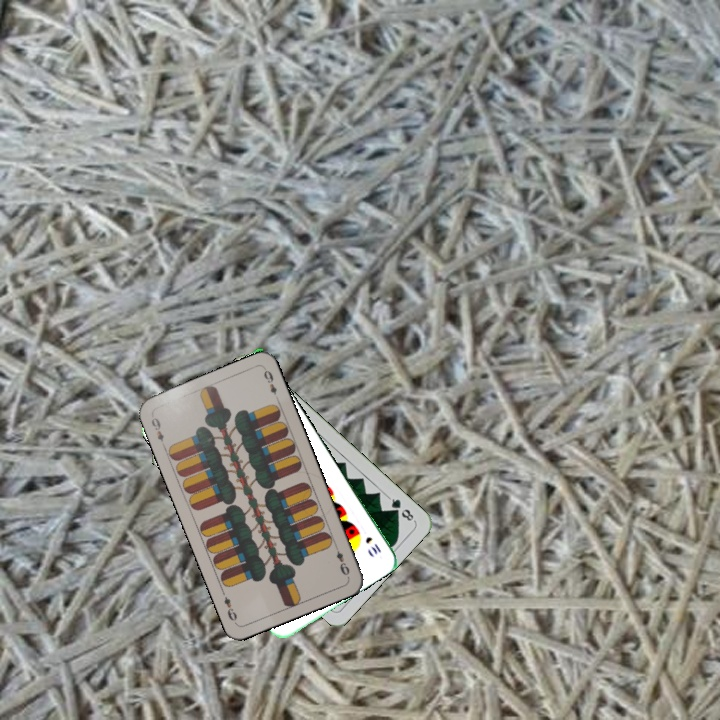E9: (331, 541, 352, 580), (147, 413, 168, 450)
G8: (384, 493, 417, 524)
S10: (361, 533, 384, 557)
